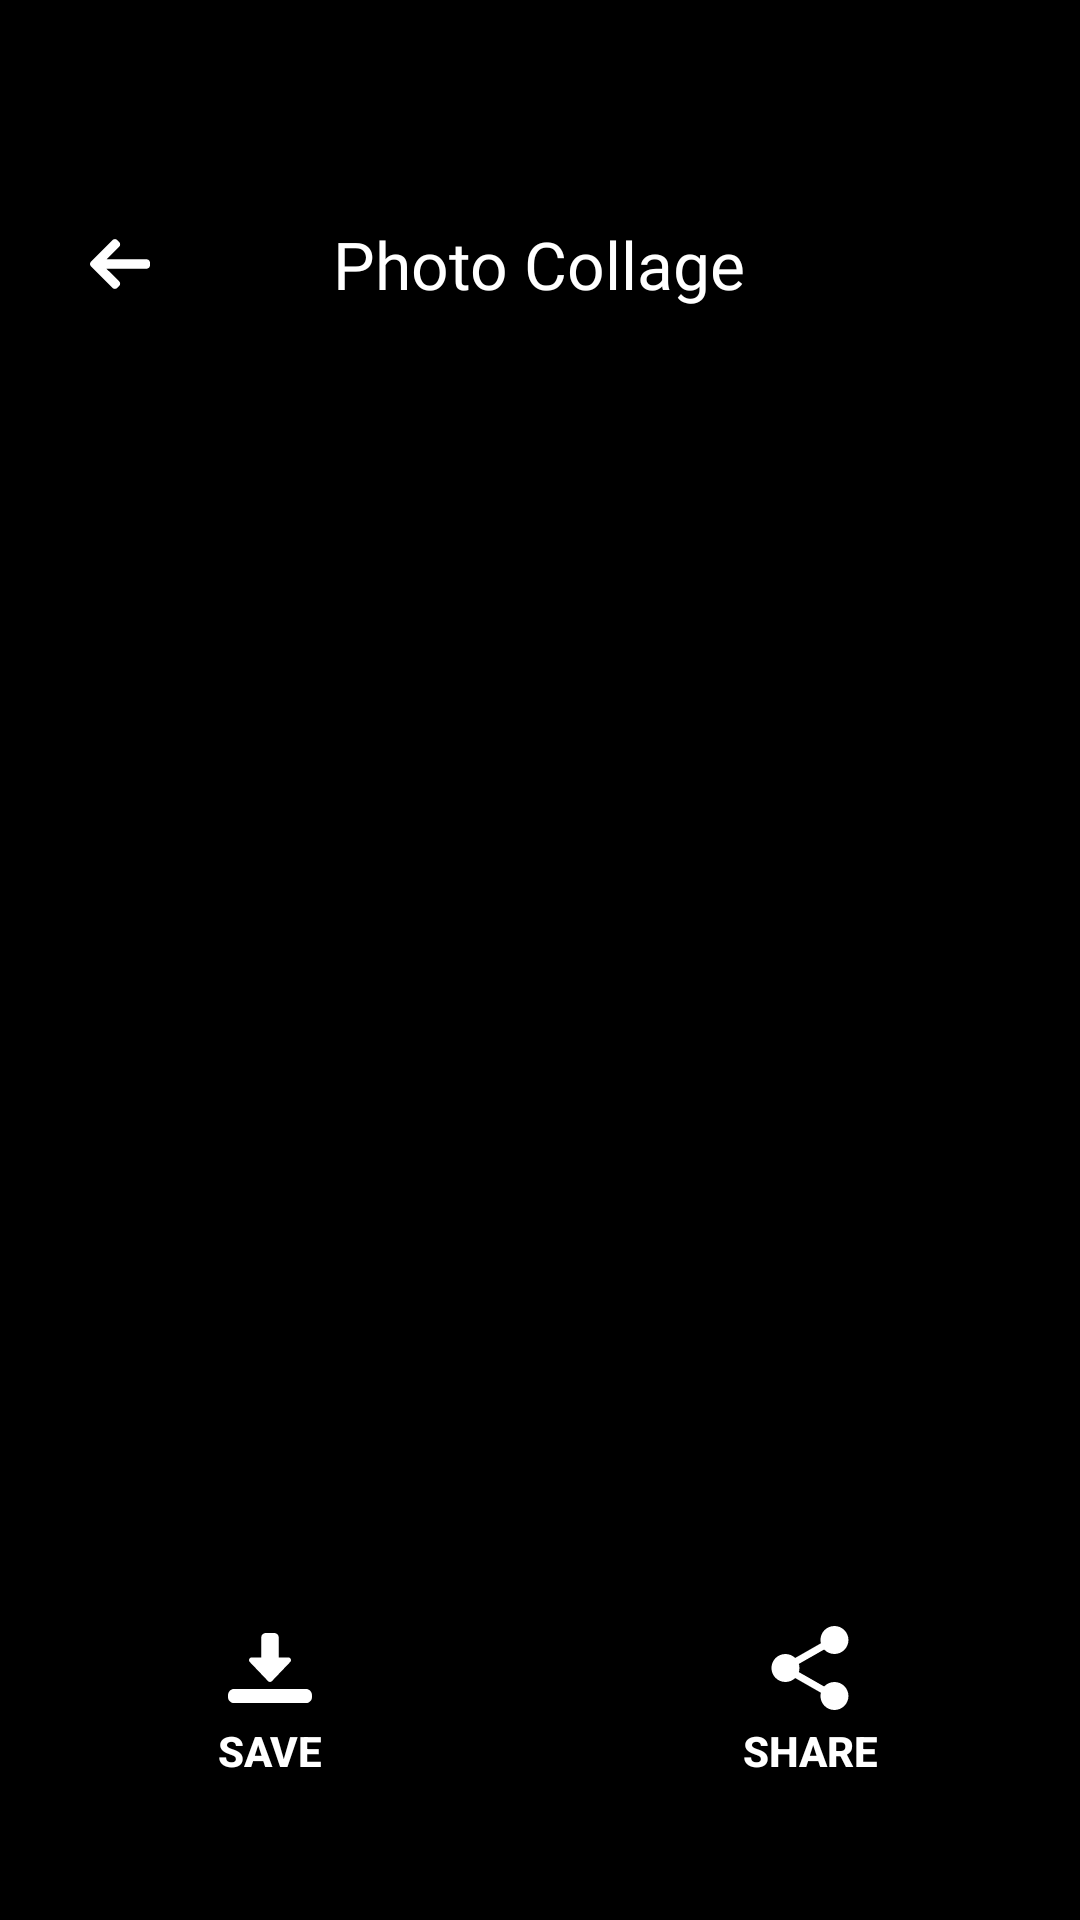

Locate icon controls on the screen. Image size 1080 x 1920, boxes as Rect(x1, y1, x2, y2).
back: Rect(90, 239, 150, 289)
